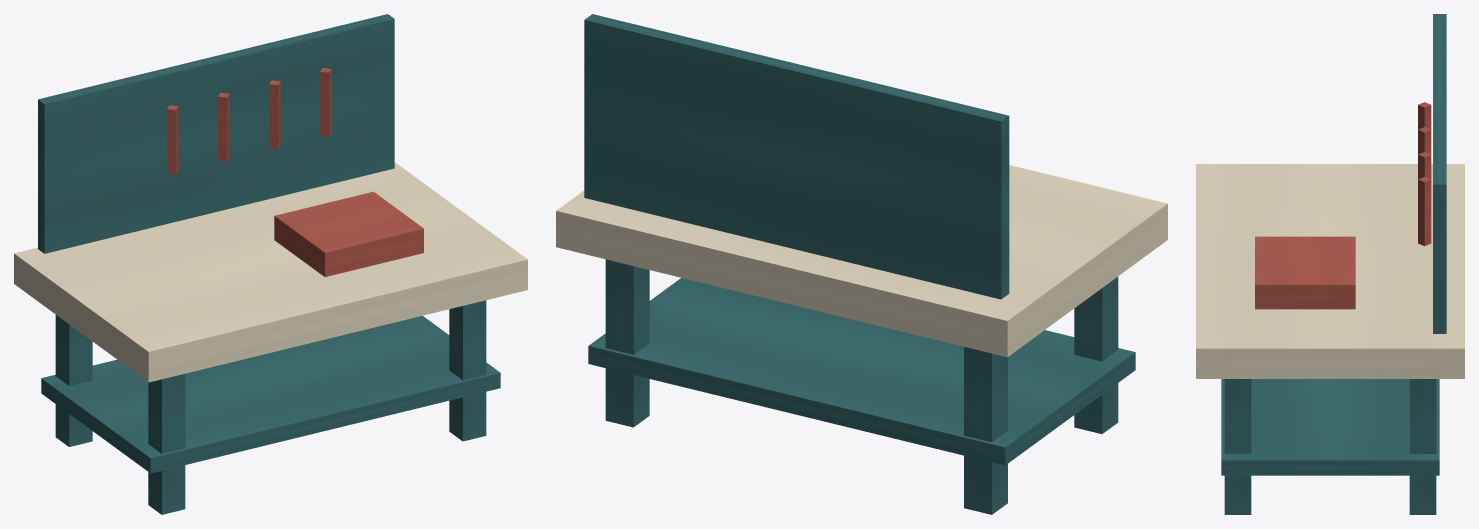
The model's file is atlas100-s032-a02.lod2.glb.
3 views of the same model, side by side, from view 1: azimuth 30°, elevation 25°; view 2: azimuth 150°, elevation 25°; view 3: azimuth 270°, elevation 25° (orthographic). The views are drawn at different scales.
Parts seen in each view (by area): view 1: atlas100-s032-a02:part-004, atlas100-s032-a02:part-006, atlas100-s032-a02:part-005, atlas100-s032-a02:part-012, atlas100-s032-a02:part-001, atlas100-s032-a02:part-003, atlas100-s032-a02:part-000, atlas100-s032-a02:part-009, atlas100-s032-a02:part-008, atlas100-s032-a02:part-010, atlas100-s032-a02:part-011; view 2: atlas100-s032-a02:part-006, atlas100-s032-a02:part-005, atlas100-s032-a02:part-004, atlas100-s032-a02:part-002, atlas100-s032-a02:part-000, atlas100-s032-a02:part-001; view 3: atlas100-s032-a02:part-004, atlas100-s032-a02:part-005, atlas100-s032-a02:part-012, atlas100-s032-a02:part-006, atlas100-s032-a02:part-002, atlas100-s032-a02:part-003, atlas100-s032-a02:part-011, atlas100-s032-a02:part-008, atlas100-s032-a02:part-009, atlas100-s032-a02:part-010.
Part boxes in pixels (bbox=[...]): atlas100-s032-a02:part-004: bbox=[14, 162, 527, 382]; atlas100-s032-a02:part-006: bbox=[38, 14, 394, 253]; atlas100-s032-a02:part-005: bbox=[41, 316, 500, 473]; atlas100-s032-a02:part-012: bbox=[274, 191, 423, 276]; atlas100-s032-a02:part-001: bbox=[148, 374, 185, 514]; atlas100-s032-a02:part-003: bbox=[449, 300, 486, 441]; atlas100-s032-a02:part-000: bbox=[55, 315, 92, 446]; atlas100-s032-a02:part-009: bbox=[218, 92, 229, 161]; atlas100-s032-a02:part-008: bbox=[167, 105, 178, 174]; atlas100-s032-a02:part-010: bbox=[269, 80, 280, 149]; atlas100-s032-a02:part-011: bbox=[320, 68, 331, 136]; atlas100-s032-a02:part-006: bbox=[584, 14, 1009, 299]; atlas100-s032-a02:part-005: bbox=[588, 278, 1135, 465]; atlas100-s032-a02:part-004: bbox=[556, 165, 1167, 357]; atlas100-s032-a02:part-002: bbox=[605, 259, 649, 427]; atlas100-s032-a02:part-000: bbox=[964, 347, 1007, 514]; atlas100-s032-a02:part-001: bbox=[1074, 276, 1118, 433]; atlas100-s032-a02:part-004: bbox=[1196, 164, 1464, 378]; atlas100-s032-a02:part-005: bbox=[1221, 379, 1439, 475]; atlas100-s032-a02:part-012: bbox=[1255, 236, 1355, 309]; atlas100-s032-a02:part-006: bbox=[1433, 14, 1446, 333]; atlas100-s032-a02:part-002: bbox=[1409, 379, 1436, 514]; atlas100-s032-a02:part-003: bbox=[1224, 379, 1251, 514]; atlas100-s032-a02:part-011: bbox=[1418, 176, 1431, 246]; atlas100-s032-a02:part-008: bbox=[1418, 102, 1431, 129]; atlas100-s032-a02:part-009: bbox=[1418, 127, 1431, 154]; atlas100-s032-a02:part-010: bbox=[1418, 152, 1431, 179].
Size of the model in its own units: 2.6 by 2.21 by 1.6.
Materials: 3 (3 with a texture image).
